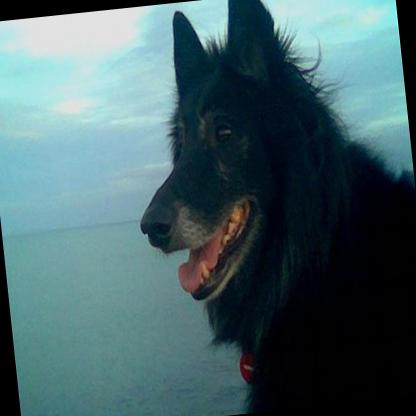groenendael: (116, 0, 416, 416)
